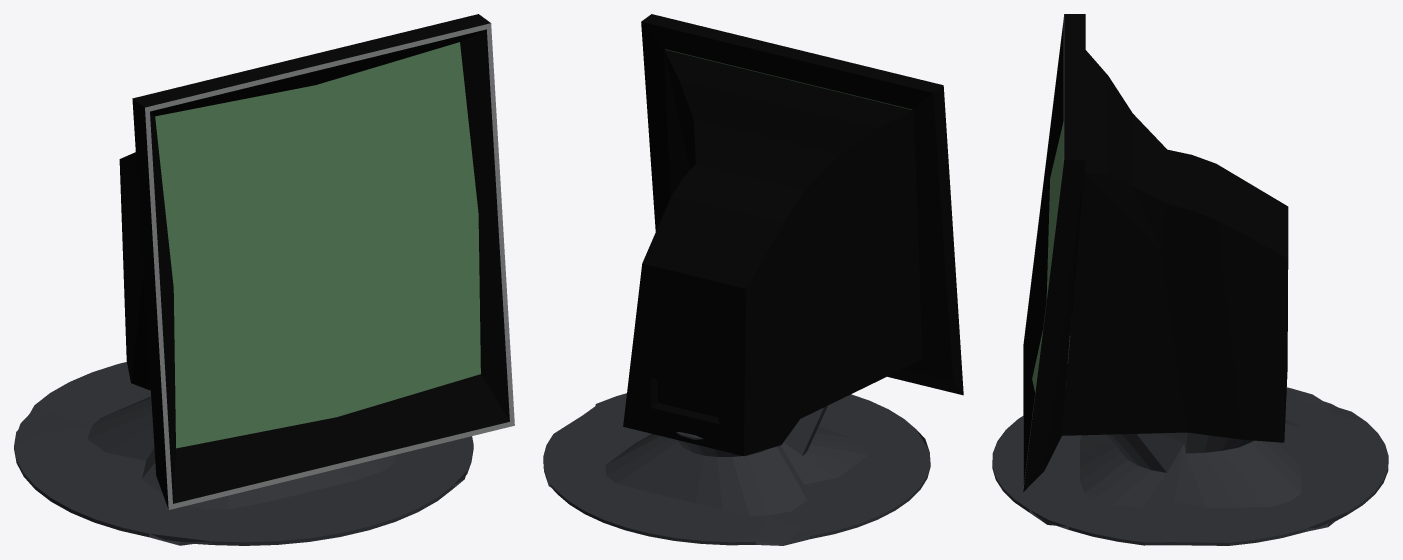
Rendered from Monitor2.fbx.
3 views of the same model, side by side, from view 1: azimuth 30°, elevation 25°; view 2: azimuth 150°, elevation 25°; view 3: azimuth 270°, elevation 25° (orthographic). The views are drawn at different scales.
Parts seen in each view (by area): view 1: Monitor, Podstawka; view 2: Monitor, Podstawka; view 3: Monitor, Podstawka.
Boxes of the visible parts, box(x1,y1,x2,y2) form: Monitor: box(119, 14, 514, 509); Podstawka: box(14, 362, 473, 545); Monitor: box(623, 14, 963, 456); Podstawka: box(543, 393, 930, 545); Monitor: box(1023, 14, 1288, 491); Podstawka: box(992, 335, 1388, 545).
Bounding box in the file's own units: 228 × 243 × 230.
